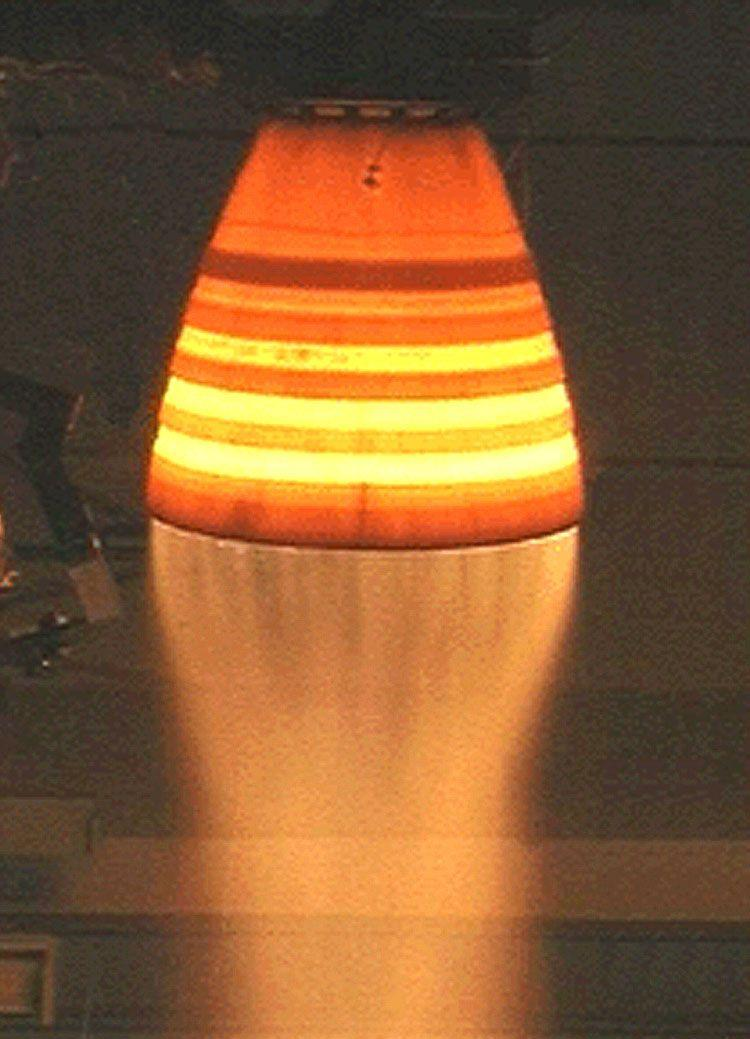thruster: (135, 128, 589, 559)
